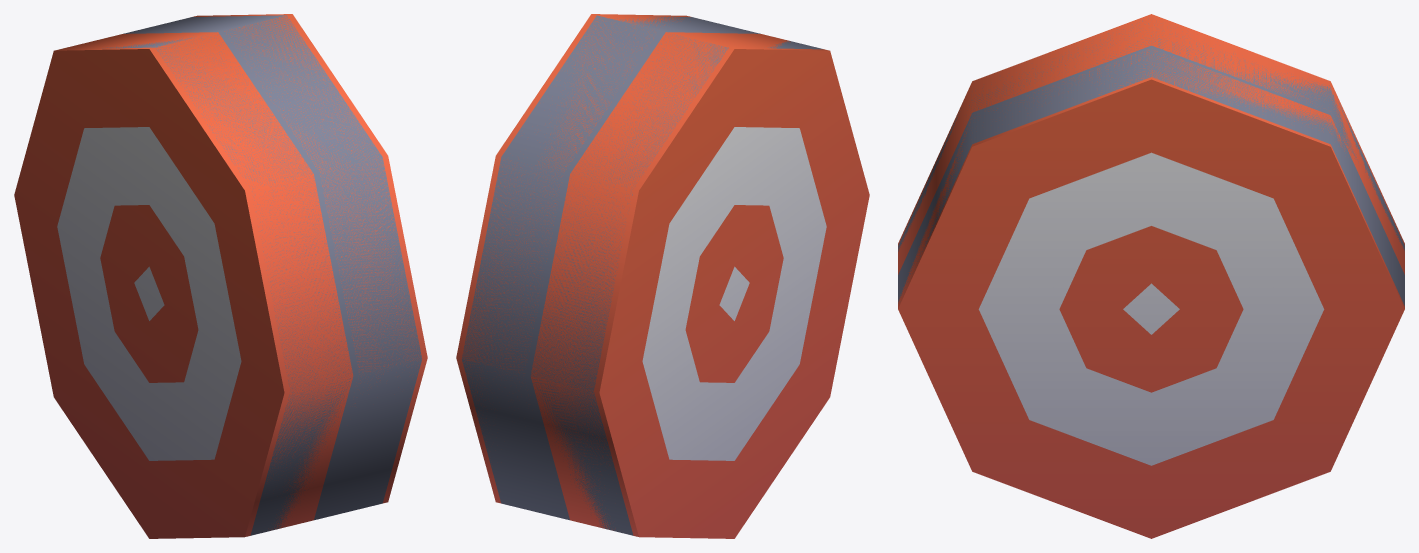
Rendered from ziel.glb.
3 views of the same model, side by side, from view 1: azimuth 30°, elevation 25°; view 2: azimuth 150°, elevation 25°; view 3: azimuth 270°, elevation 25° (orthographic). The views are drawn at different scales.
Parts seen in each view (by area): view 1: ziel; view 2: ziel; view 3: ziel.
Boxes of the visible parts, bbox=[...] form: ziel: bbox=[14, 14, 427, 538]; ziel: bbox=[456, 14, 869, 538]; ziel: bbox=[898, 14, 1404, 538].
Bounding box in the file's own units: 0.2753 × 0.9 × 0.9.
1 material, 1 textured.
